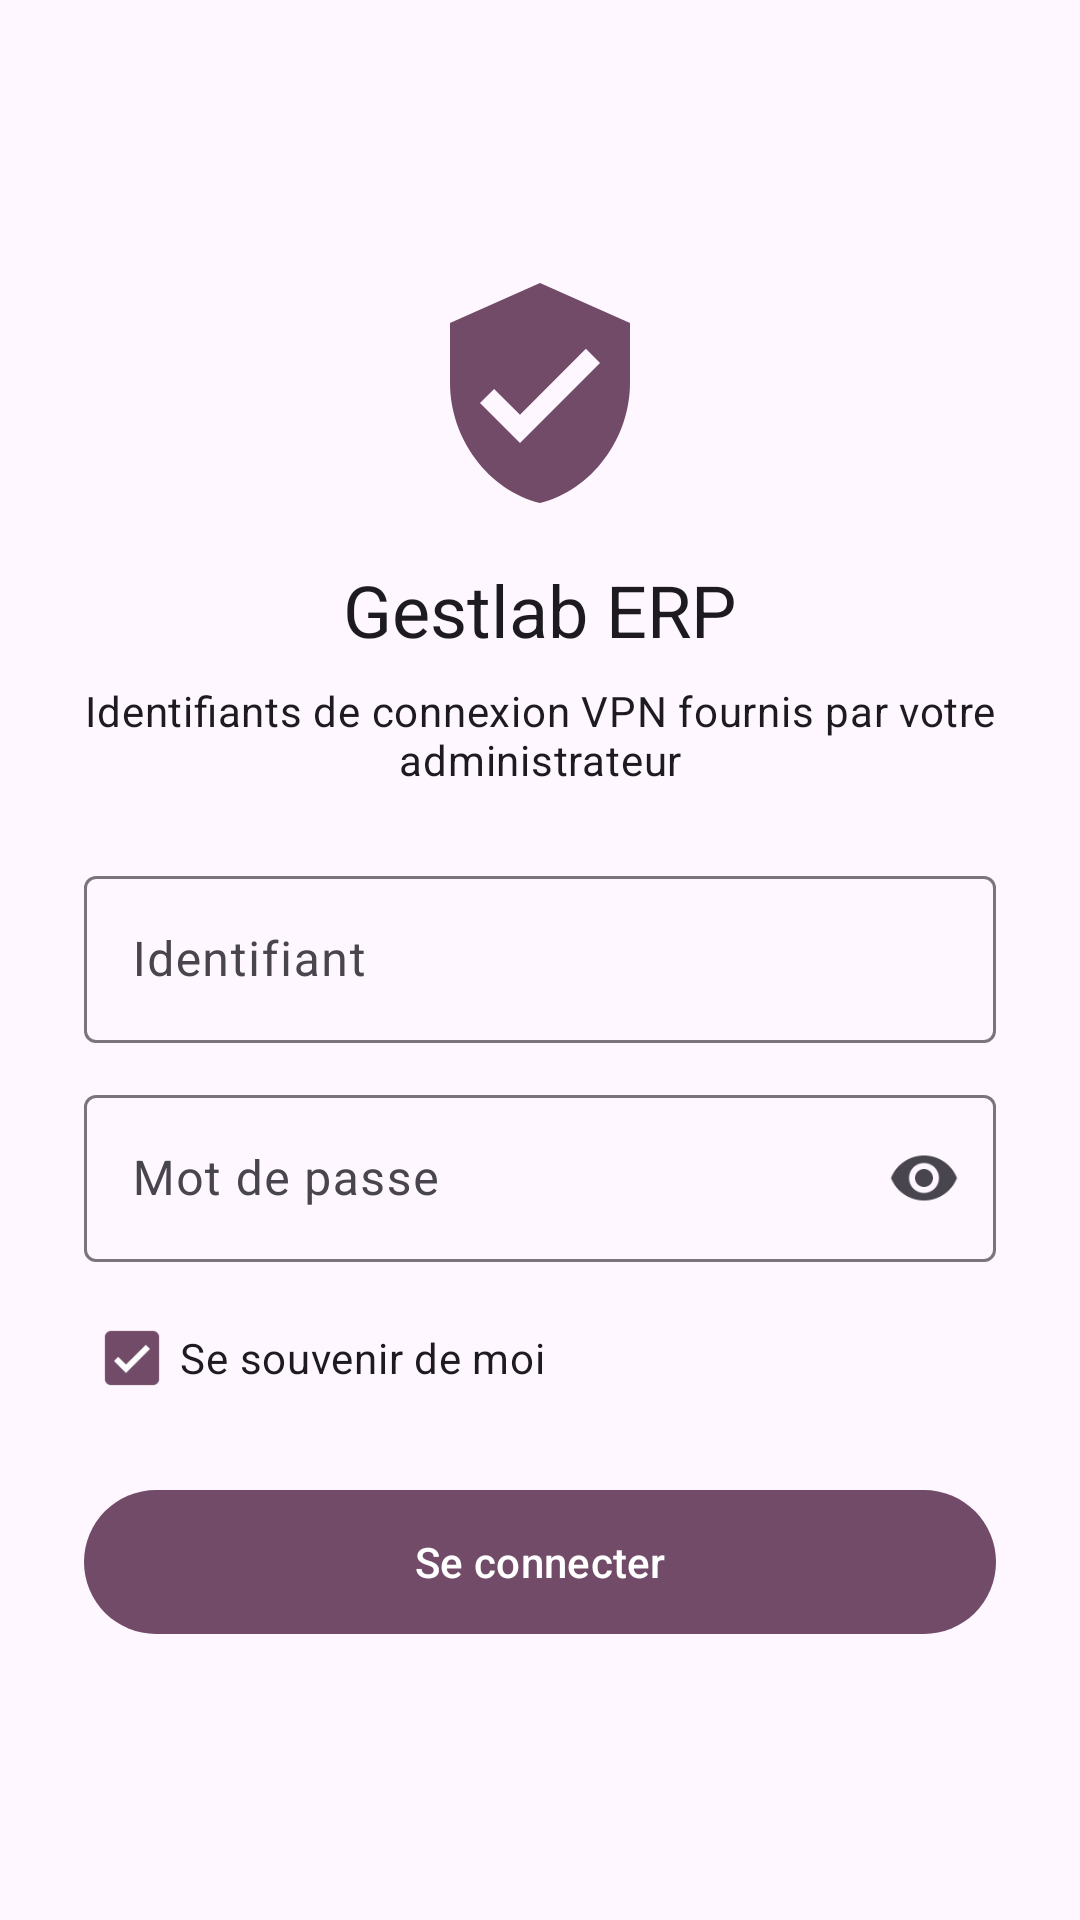

Where to tap for icons on this 1080px×1920px app screen, as [x,y]:
shield: [540,393]
